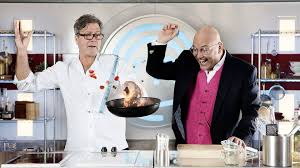Bad: (15, 14, 261, 147)
